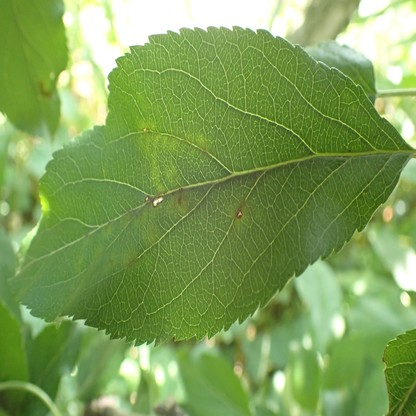scab: (180, 130, 213, 159), (142, 204, 160, 244), (138, 118, 157, 148), (229, 195, 247, 226), (167, 189, 188, 213), (75, 229, 90, 262), (124, 207, 142, 231), (122, 247, 139, 265), (102, 217, 114, 236), (102, 252, 117, 267)
